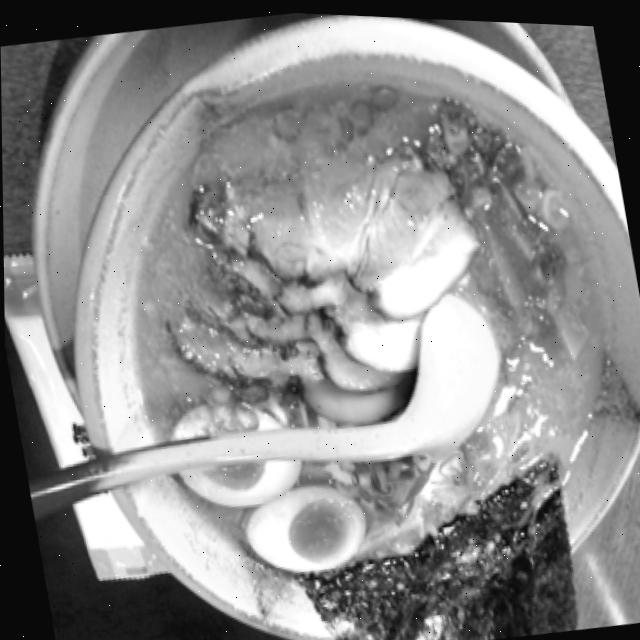面条主食: (79, 31, 640, 637)
